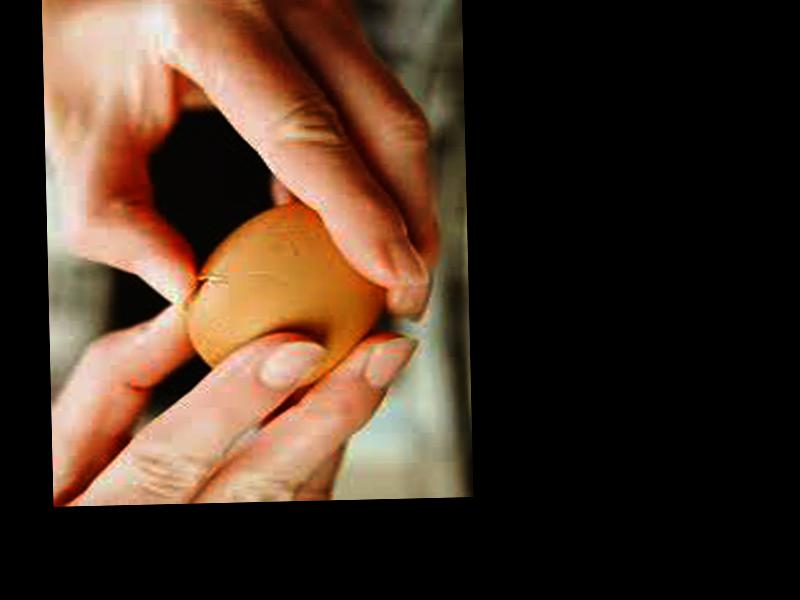Eggs: (181, 201, 391, 391)
